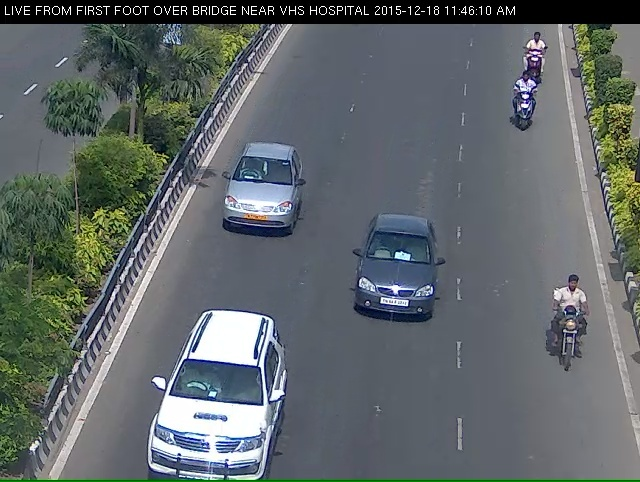Car: (128, 328, 281, 481), (345, 214, 440, 357), (213, 147, 303, 258)
Person: (545, 290, 593, 406), (510, 81, 538, 150), (519, 38, 550, 94)
